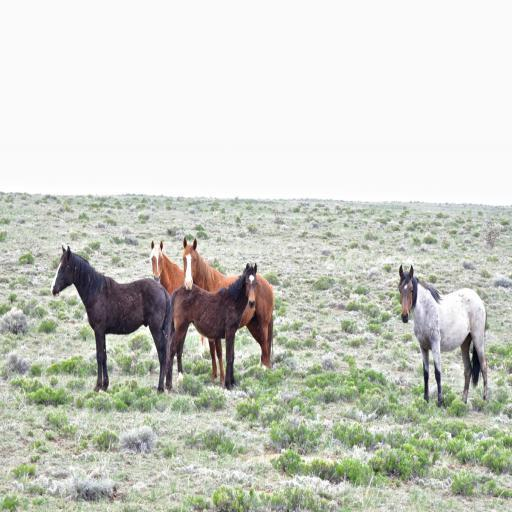horse: (51, 244, 173, 396), (180, 235, 276, 387), (397, 262, 488, 408), (166, 262, 256, 391), (148, 238, 210, 356)
